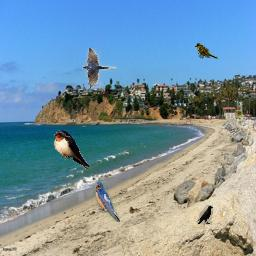Crow: (197, 205, 213, 225)
Cuckoo: (195, 43, 218, 59)
Swallow: (53, 130, 89, 170), (82, 48, 117, 88), (95, 182, 120, 222)
